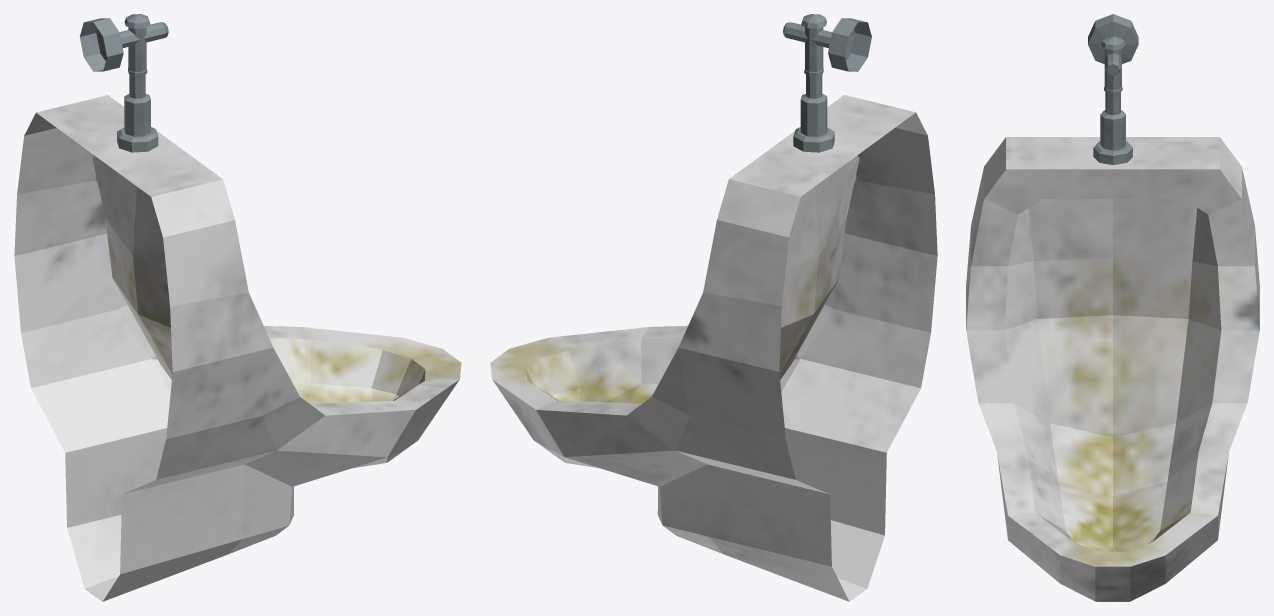
The model's file is urinal.fbx.
The picture shows the model from 3 angles, left to right: view 1: azimuth 30°, elevation 25°; view 2: azimuth 150°, elevation 25°; view 3: azimuth 270°, elevation 25°; orthographic projection. The views are drawn at different scales.
Visible parts, largest first — view 1: urinal; view 2: urinal; view 3: urinal.
Part boxes in pixels (box(x1,y1,x2,y2)): urinal: box(14, 14, 461, 601); urinal: box(490, 14, 937, 601); urinal: box(966, 14, 1259, 601).
Bounding box in the file's own units: 77.03 × 118 × 58.9.
Materials: 1 (1 with a texture image).
